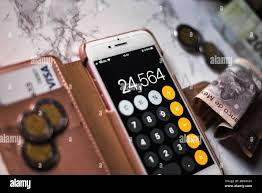Calculator: (117, 65, 215, 177)
